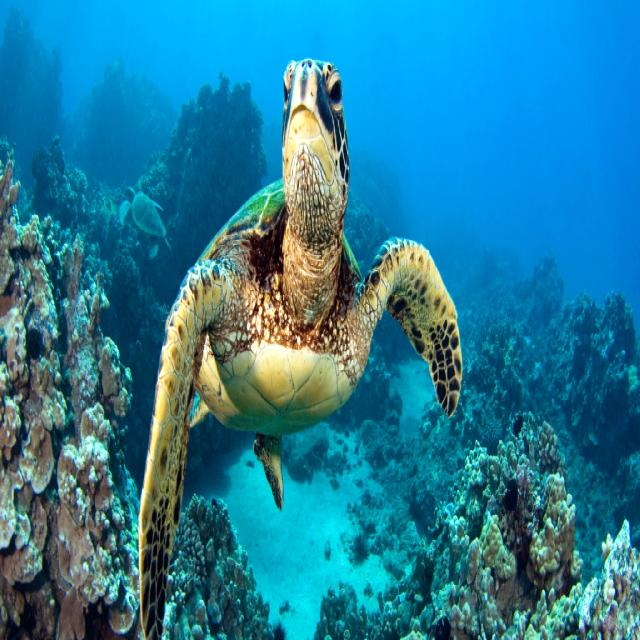Sea turtle: (128, 44, 468, 640)
